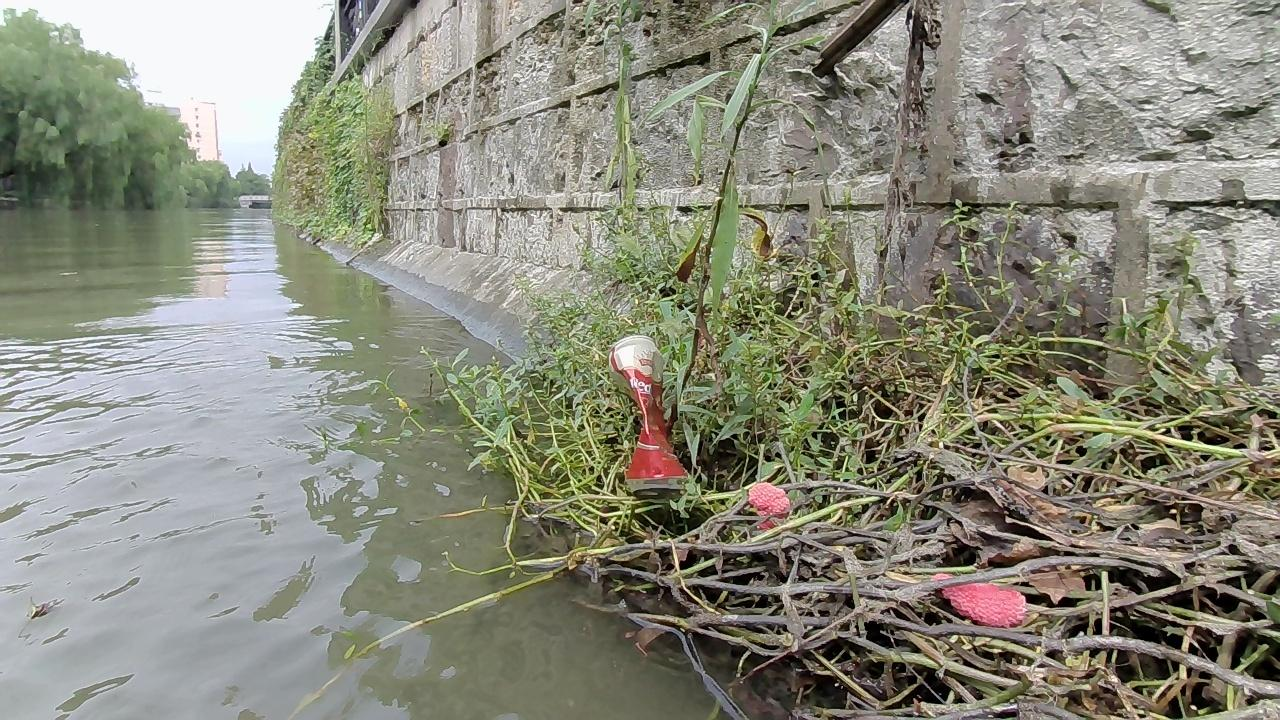bottle: (610, 335, 692, 490)
